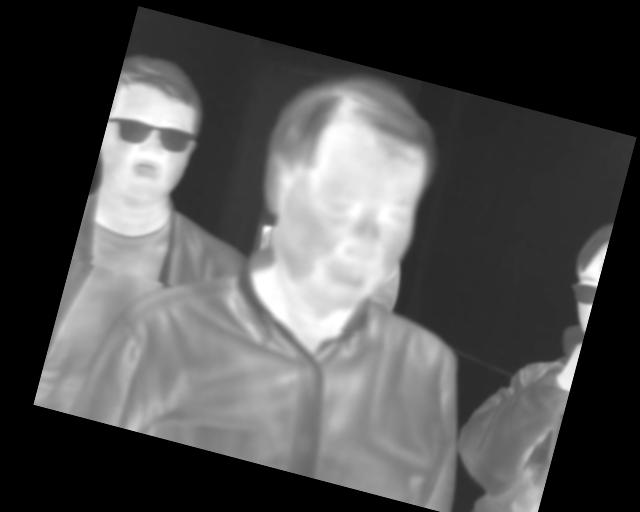face: (231, 56, 455, 332), (89, 46, 220, 216)
